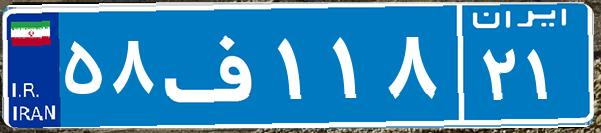1: (273, 28, 330, 110), (330, 28, 385, 110), (525, 38, 570, 115)
2: (475, 38, 525, 113)
5: (57, 26, 110, 107)
8: (385, 28, 445, 110), (110, 28, 158, 105)
ف: (158, 15, 273, 115)
